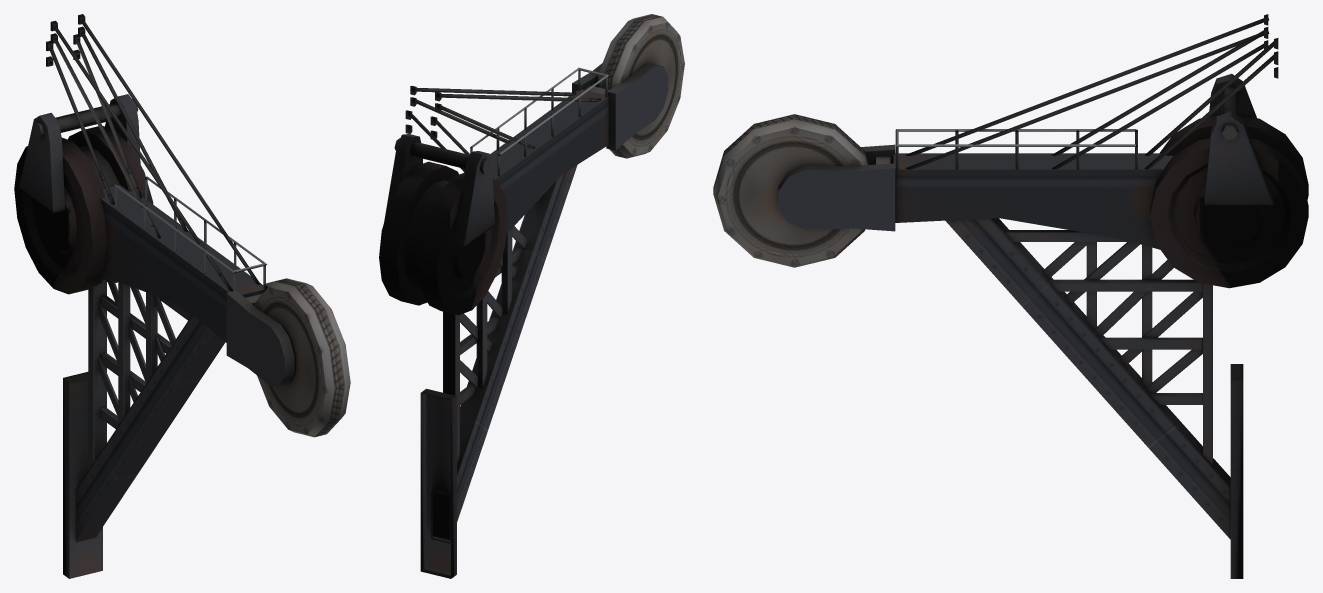
Rendered from Build01CR_Sm.obj.
3 views of the same model, side by side, from view 1: azimuth 30°, elevation 25°; view 2: azimuth 150°, elevation 25°; view 3: azimuth 270°, elevation 25° (orthographic). The views are drawn at different scales.
Visible parts, largest first — view 1: Build01CR_Sm; view 2: Build01CR_Sm; view 3: Build01CR_Sm.
Boxes of the visible parts, left/top/right/bottom form: Build01CR_Sm: left=14, top=14, right=350, bottom=578; Build01CR_Sm: left=379, top=14, right=684, bottom=578; Build01CR_Sm: left=713, top=14, right=1308, bottom=578.
Size of the model in its own units: 207 by 1106 by 1088.
1 material, 1 textured.
